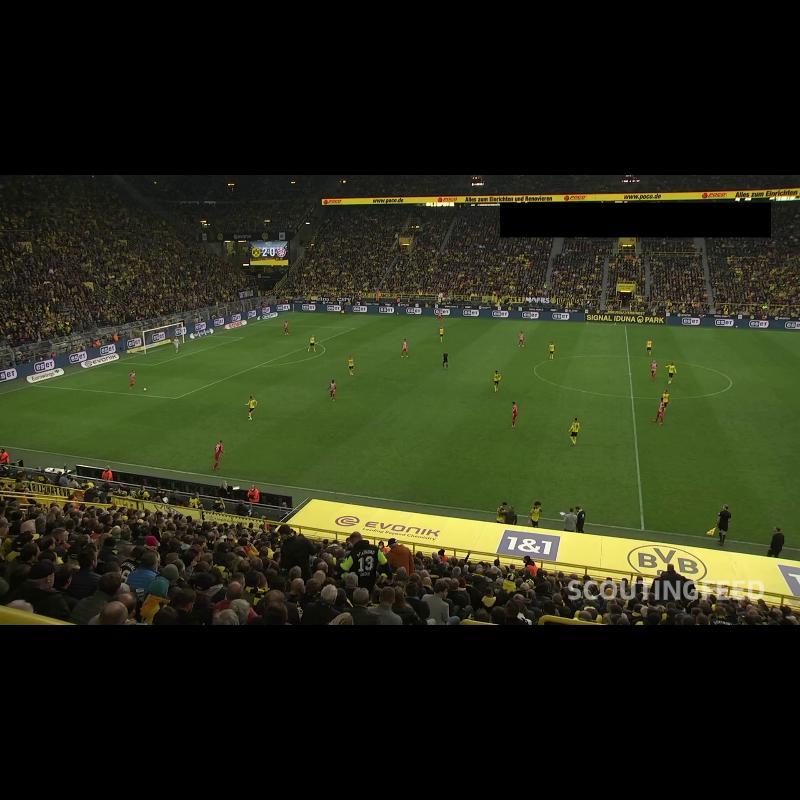cross_recipient_zone: (32, 324, 354, 399)
crossing_player_zone: (0, 386, 268, 470), (254, 313, 441, 331)
pitch: (0, 313, 800, 551)
